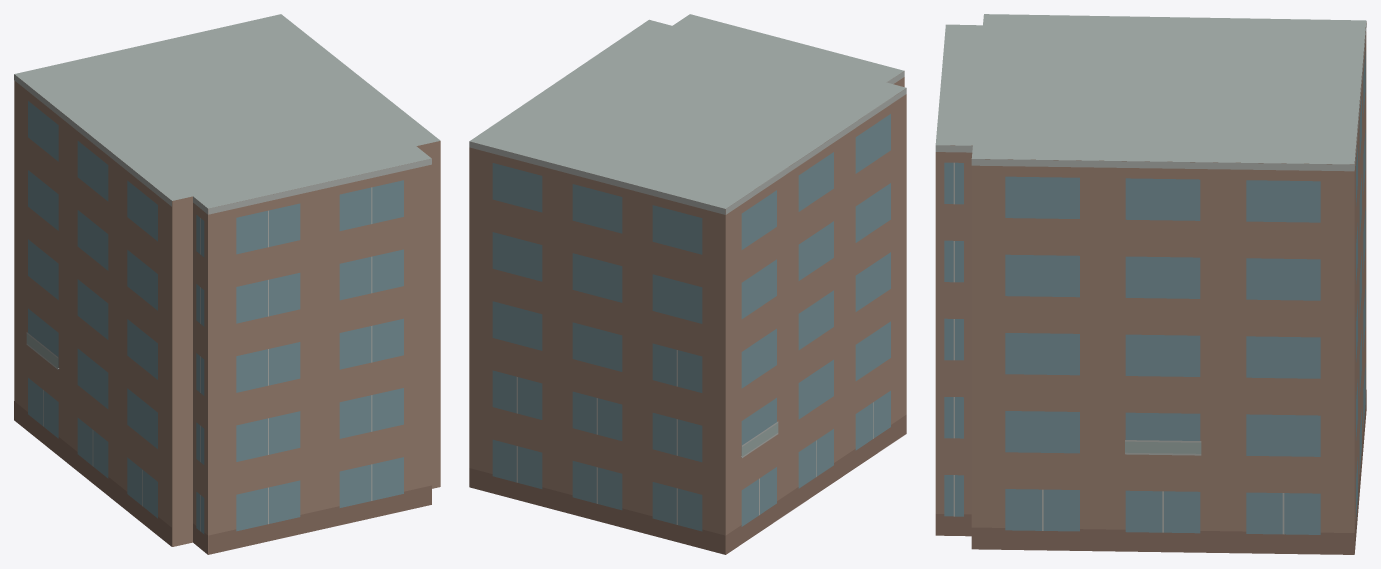
File: survey-upis-32663021.glb
3 renders of one model, left to right at view 1: azimuth 30°, elevation 25°; view 2: azimuth 150°, elevation 25°; view 3: azimuth 270°, elevation 25°, orthographic. The views are drawn at different scales.
Parts seen in each view (by area): view 1: survey-upis-32663021.tmp; view 2: survey-upis-32663021.tmp; view 3: survey-upis-32663021.tmp.
Part boxes in pixels (x1,y1,x2,y2): survey-upis-32663021.tmp: [14, 14, 440, 554]; survey-upis-32663021.tmp: [469, 14, 906, 554]; survey-upis-32663021.tmp: [935, 14, 1366, 554].
Bounding box in the file's own units: 11.5 × 13.9 × 13.91.
